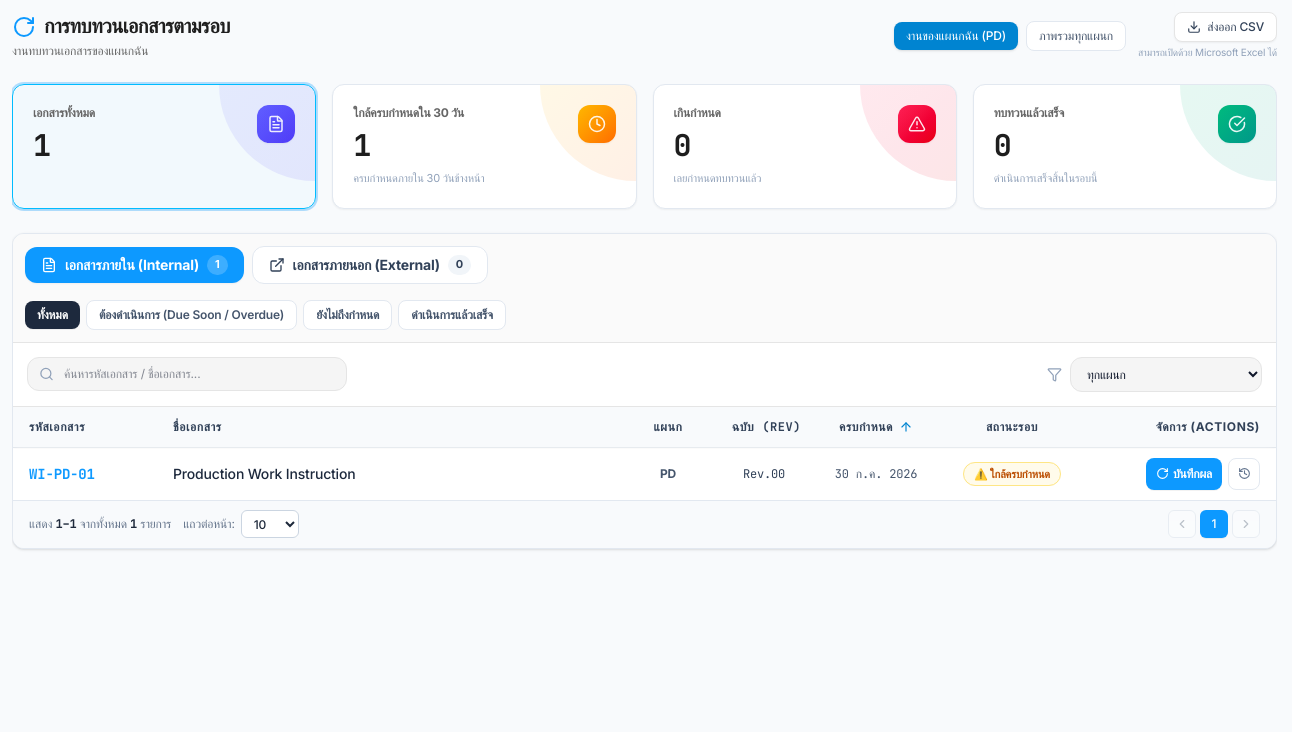
Test: Periodic Review Components & Integration › Management User (e.g. กัลยาณี L5 - PD) › shows WI-QC-01 with status "ทบทวนแล้วเสร็จ" when clicking "ภาพรวมทุกแผนก"
Click the button "ภาพรวมทุกแผนก".
click(1076, 36)  # box x1=1026 y1=21 x2=1126 y2=51
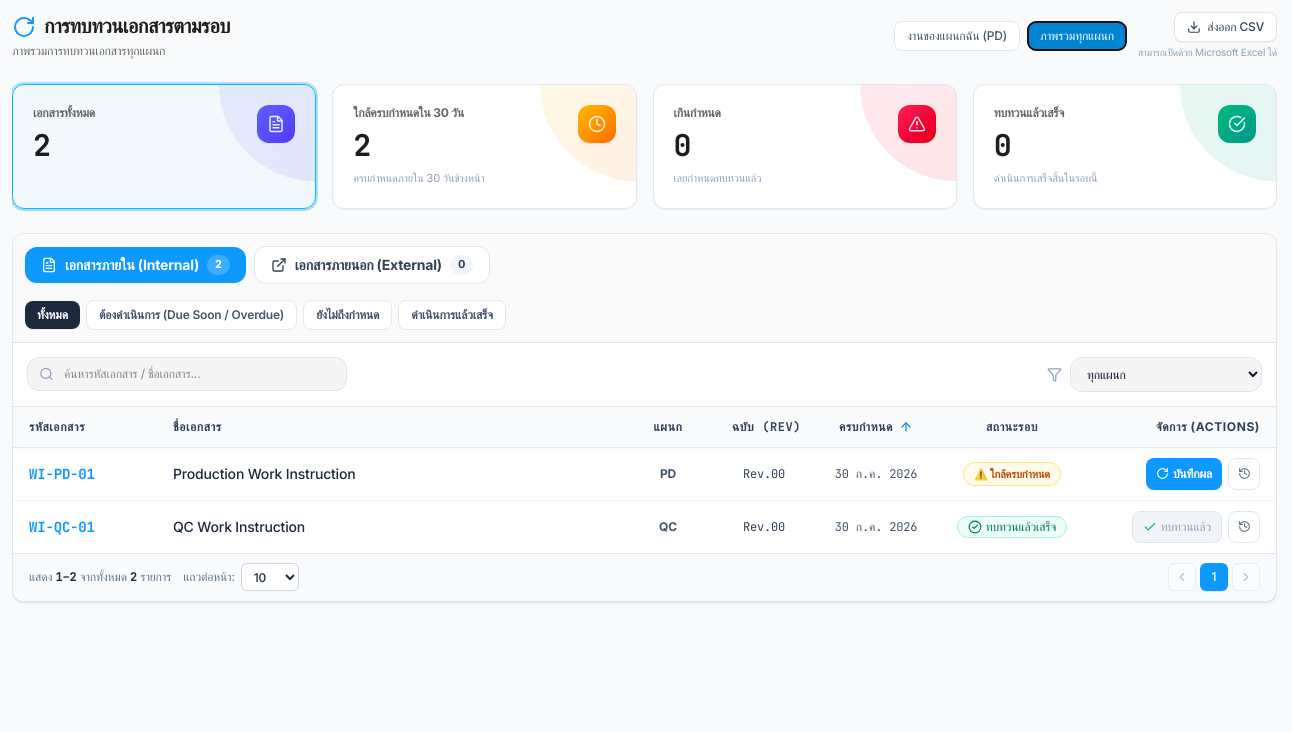
Expected: the text "WI-PD-01" is shown, x1=13 y1=447 x2=157 y2=500
Expected: the text "WI-QC-01" is shown, x1=13 y1=500 x2=157 y2=553
